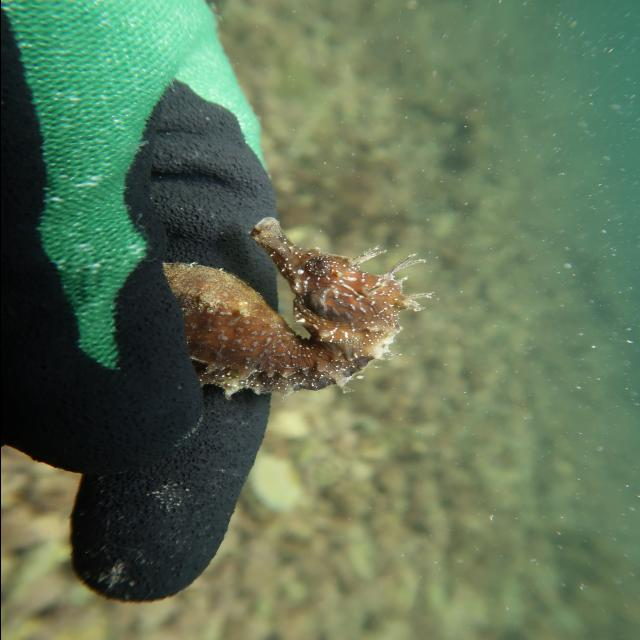Guttu: (242, 213, 409, 339)
